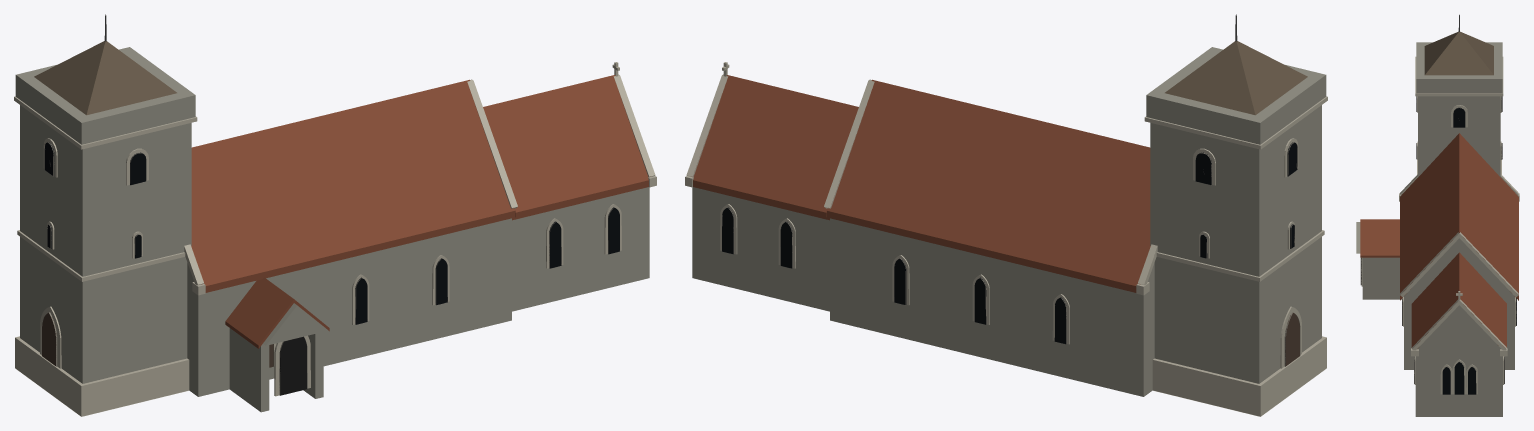
The model's file is context.church.se_cap.glb.
3 views of the same model, side by side, from view 1: azimuth 30°, elevation 25°; view 2: azimuth 150°, elevation 25°; view 3: azimuth 270°, elevation 25° (orthographic). The views are drawn at different scales.
Parts seen in each view (by area): view 1: main__stone_998, main__clad_843, main__stone_ba9, main__clad_654, main__glass_dark, main__timber_111, main__stone_887, main__timber_543; view 2: main__stone_998, main__clad_843, main__stone_ba9, main__clad_654, main__glass_dark, main__stone_887, main__timber_543; view 3: main__stone_998, main__clad_843, main__stone_ba9, main__clad_654, main__glass_dark, main__stone_887.
Boxes of the visible parts, bbox=[...] form: main__stone_998: bbox=[15, 47, 649, 412]; main__clad_843: bbox=[191, 75, 648, 348]; main__stone_ba9: bbox=[14, 62, 656, 416]; main__clad_654: bbox=[34, 41, 176, 115]; main__glass_dark: bbox=[44, 142, 619, 324]; main__timber_111: bbox=[279, 336, 307, 395]; main__stone_887: bbox=[41, 142, 619, 395]; main__timber_543: bbox=[42, 313, 273, 367]; main__stone_998: bbox=[692, 47, 1326, 396]; main__clad_843: bbox=[693, 75, 1150, 292]; main__stone_ba9: bbox=[685, 62, 1327, 416]; main__clad_654: bbox=[1165, 41, 1307, 115]; main__glass_dark: bbox=[722, 142, 1297, 344]; main__stone_887: bbox=[722, 142, 1300, 366]; main__timber_543: bbox=[1285, 313, 1299, 366]; main__stone_998: bbox=[1356, 42, 1514, 416]; main__clad_843: bbox=[1360, 133, 1518, 348]; main__stone_ba9: bbox=[1361, 56, 1519, 394]; main__clad_654: bbox=[1424, 31, 1493, 75]; main__glass_dark: bbox=[1402, 96, 1516, 394]; main__stone_887: bbox=[1360, 96, 1516, 383].
Bounding box in the file's own units: 27.35 × 16.65 × 10.3.
